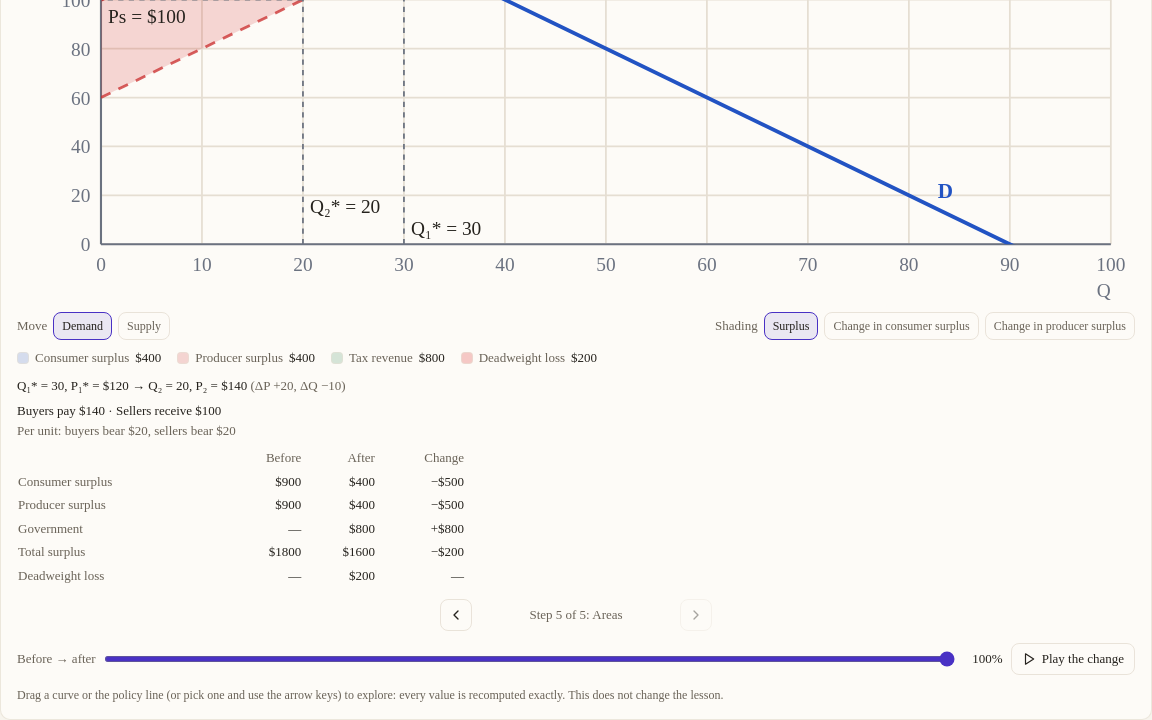
Test: market_2d rendering › jumps straight to the result when reduced motion is preferred
(page scrolled)
Set the slider to "0.2" at (279, 659), box x1=104 y1=656 x2=955 y2=662
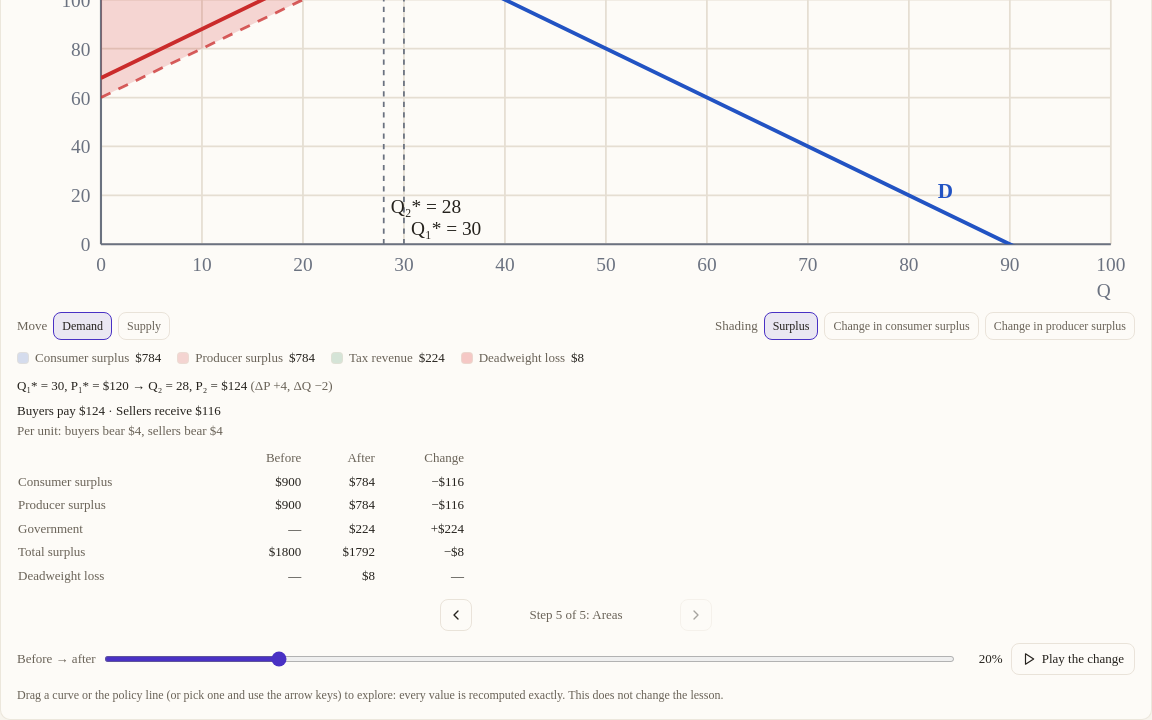
Click the button "Play the change" at (1073, 659), box x1=1011 y1=643 x2=1135 y2=675
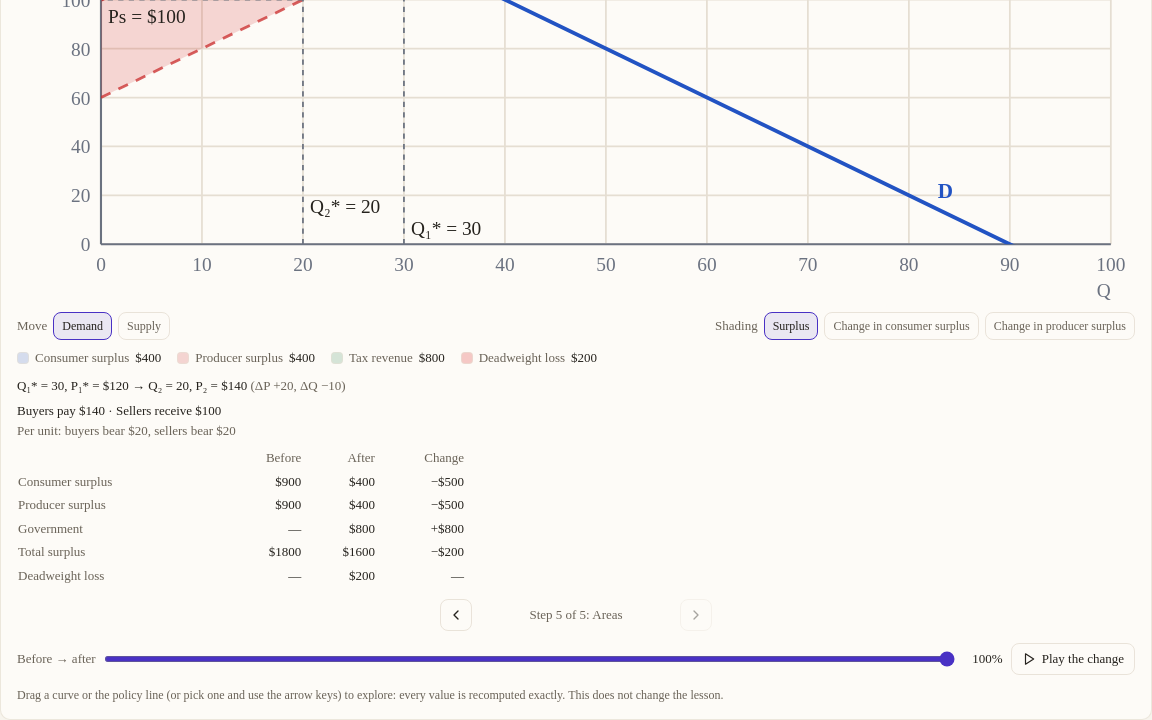
Check: the slider holds "1", box x1=104 y1=656 x2=955 y2=662
